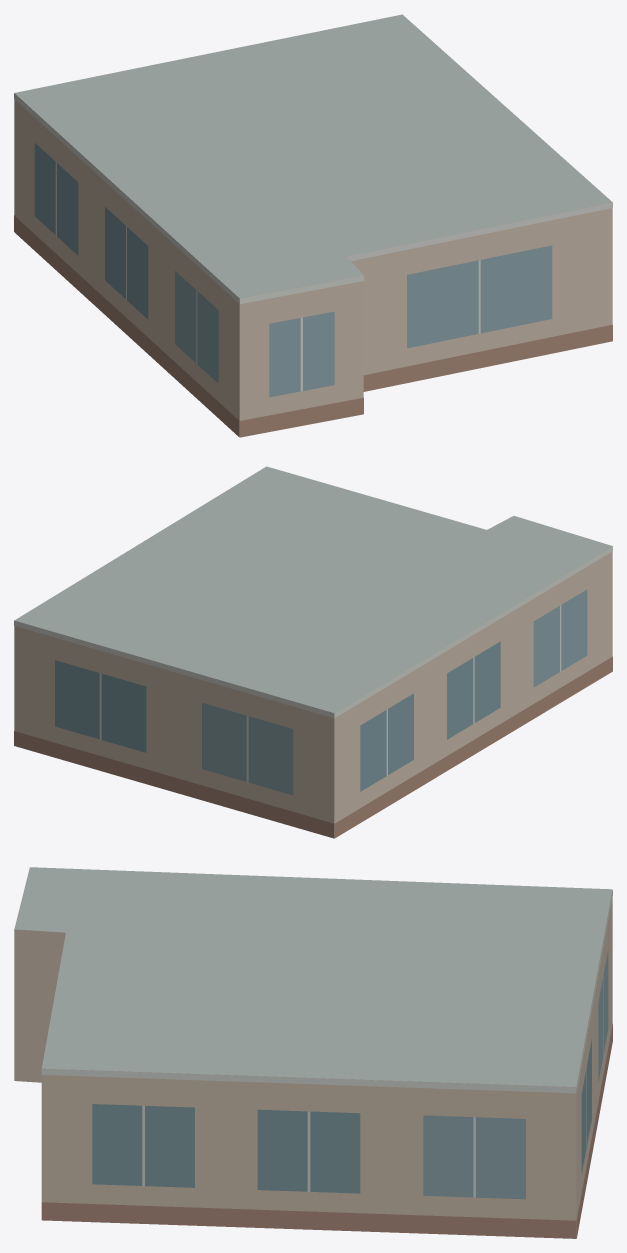
File: survey-upis-32602112.glb
3 renders of one model, top to bottom at view 1: azimuth 30°, elevation 25°; view 2: azimuth 150°, elevation 25°; view 3: azimuth 270°, elevation 25°, orthographic. The views are drawn at different scales.
Visible parts, largest first — view 1: survey-upis-32602112.tmp; view 2: survey-upis-32602112.tmp; view 3: survey-upis-32602112.tmp.
Boxes of the visible parts, box(x1,y1,x2,y2) form: survey-upis-32602112.tmp: box(14, 14, 612, 437); survey-upis-32602112.tmp: box(14, 466, 612, 838); survey-upis-32602112.tmp: box(14, 867, 612, 1238).
Size of the model in its own units: 9.5 by 3.05 by 10.92.
